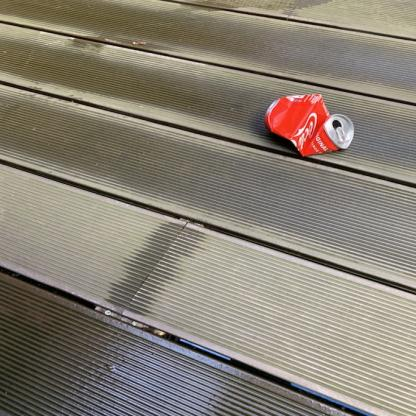trash: (263, 95, 357, 156)
